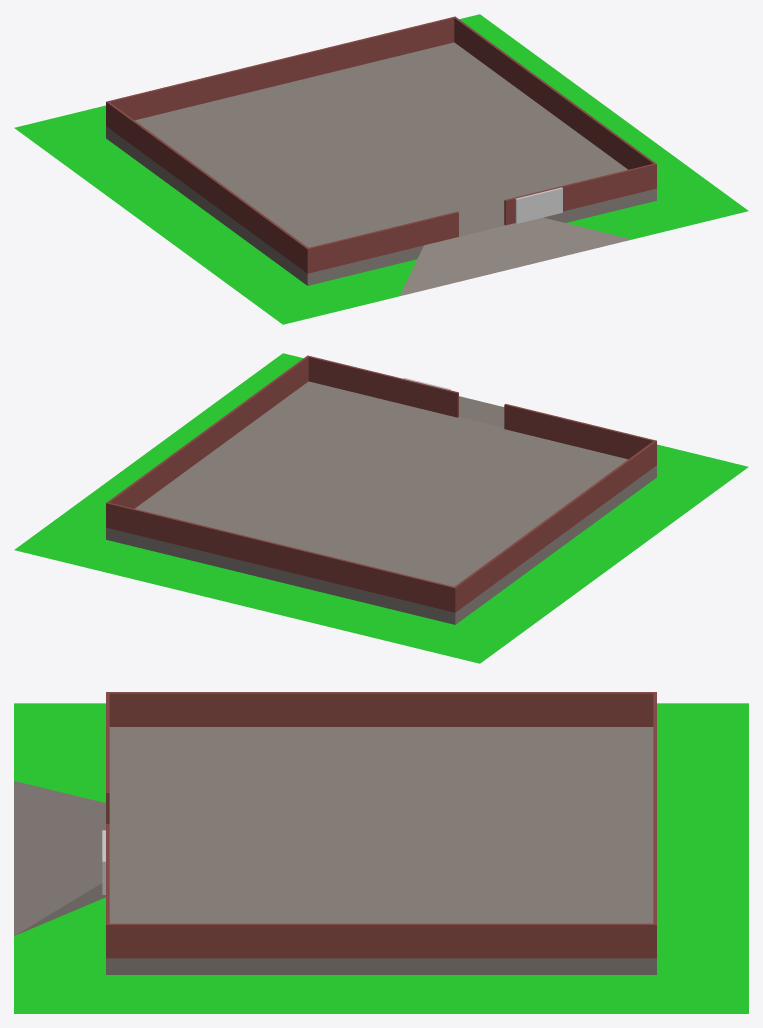
The model's file is depot_tech.fbx.
3 views of the same model, one above another, from view 1: azimuth 30°, elevation 25°; view 2: azimuth 150°, elevation 25°; view 3: azimuth 270°, elevation 25° (orthographic). The views are drawn at different scales.
Parts seen in each view (by area): view 1: Plane, Door; view 2: Plane; view 3: Plane.
Boxes of the visible parts, x1,y1,x2,y2 form: Plane: (14, 14, 748, 324); Door: (515, 187, 562, 223); Plane: (14, 353, 748, 663); Plane: (14, 692, 748, 1013).
Size of the model in its own units: 400 by 30 by 400.
